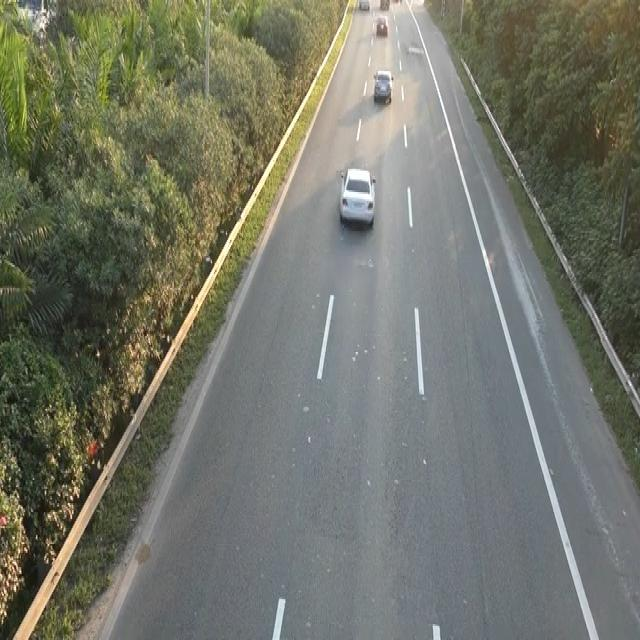bus: (337, 162, 377, 228), (372, 66, 394, 105)
